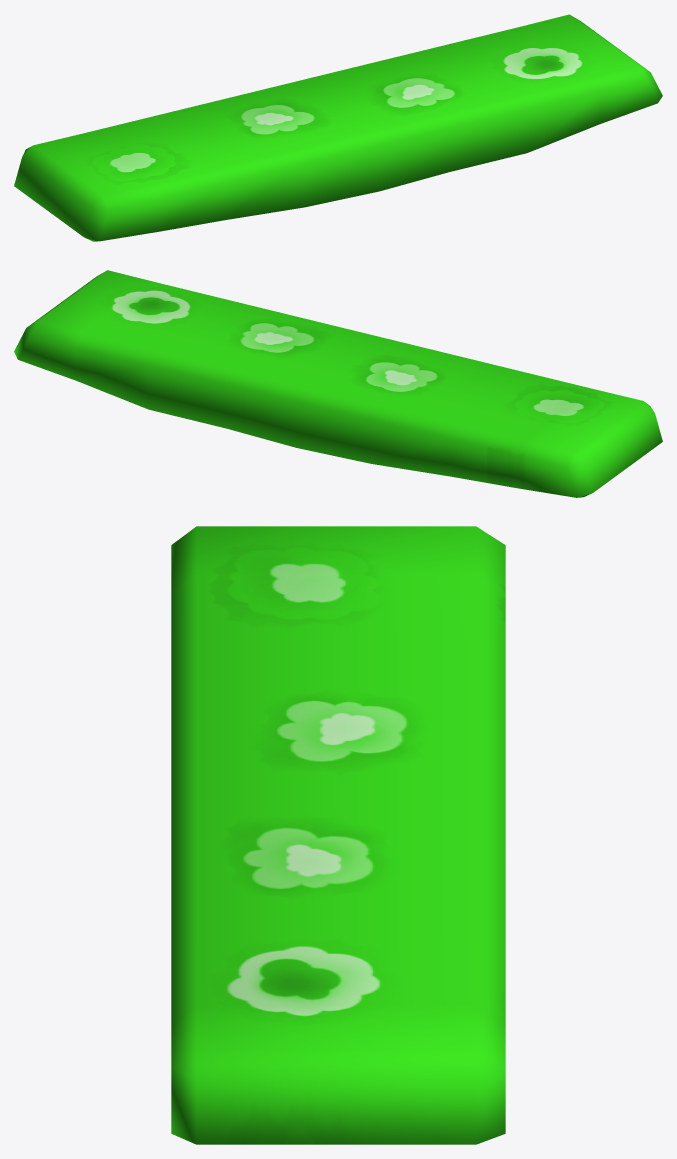
File: rd_a41_top.obj
3 views of the same model, one above another, from view 1: azimuth 30°, elevation 25°; view 2: azimuth 150°, elevation 25°; view 3: azimuth 270°, elevation 25° (orthographic). The views are drawn at different scales.
Parts seen in each view (by area): view 1: polySurface5; view 2: polySurface5; view 3: polySurface5.
Boxes of the visible parts, left/top/right/bottom form: polySurface5: left=14, top=14, right=662, bottom=241; polySurface5: left=14, top=270, right=662, bottom=497; polySurface5: left=171, top=526, right=505, bottom=1144.
Size of the model in its own units: 420 by 42.34 by 105.
2 materials, 2 textured.
